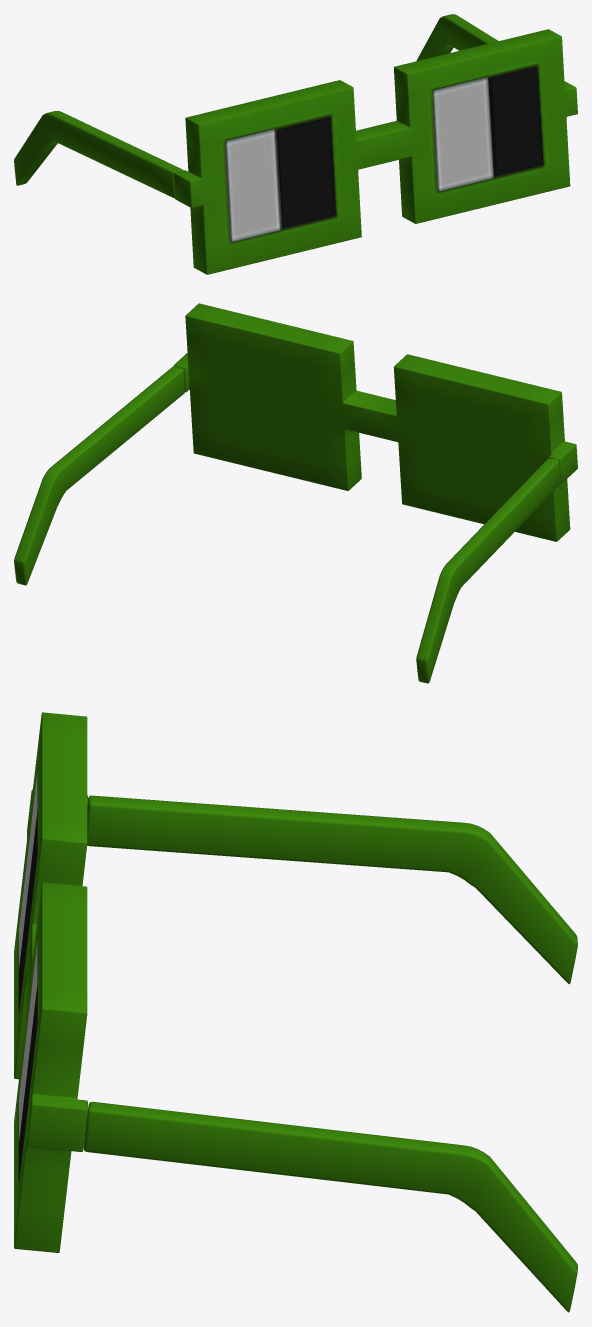
The model's file is glasses_green.glb.
3 views of the same model, one above another, from view 1: azimuth 30°, elevation 25°; view 2: azimuth 150°, elevation 25°; view 3: azimuth 270°, elevation 25° (orthographic). The views are drawn at different scales.
Visible parts, largest first — view 1: glasses_4; view 2: glasses_4; view 3: glasses_4.
Boxes of the visible parts, <box> form: glasses_4: <box>14,14,577,274</box>; glasses_4: <box>14,303,577,683</box>; glasses_4: <box>14,712,577,1312</box>.
Bounding box in the file's own units: 0.2041 × 0.0804 × 0.1441.
1 material, 1 textured.
